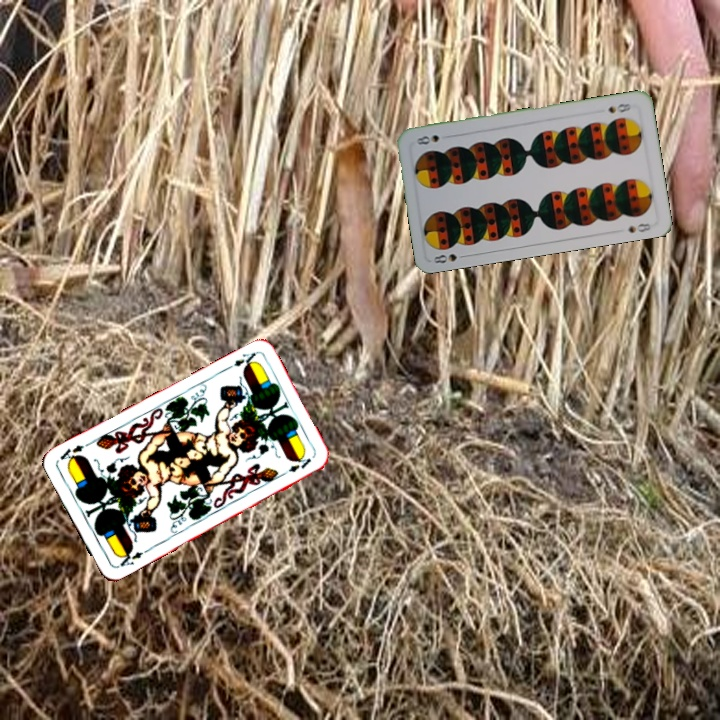EA: (113, 545, 151, 570), (221, 348, 259, 373)
S8: (429, 250, 470, 266), (604, 99, 633, 115)
